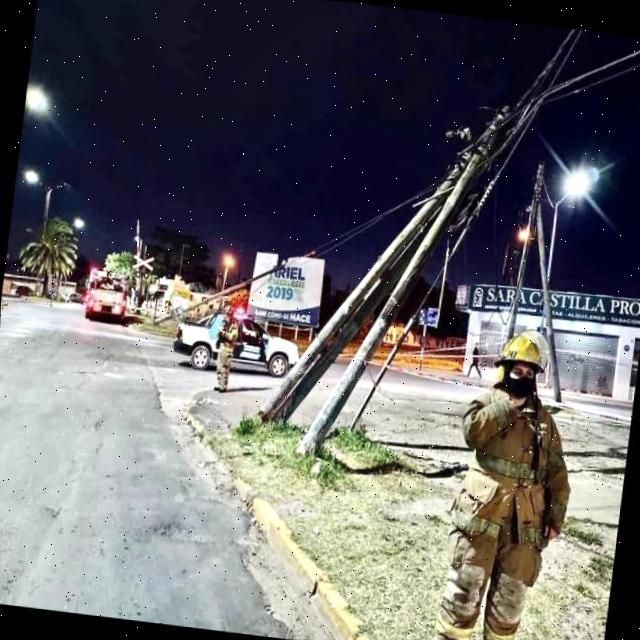Broken Pole: (296, 107, 506, 455), (257, 150, 471, 420), (271, 208, 440, 421)
